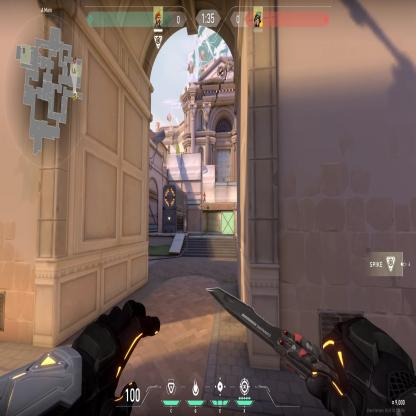enemy: (203, 191, 206, 203)
